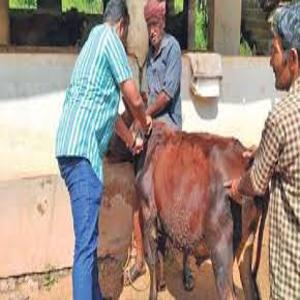lumpy skin diesease: (133, 126, 267, 299)
